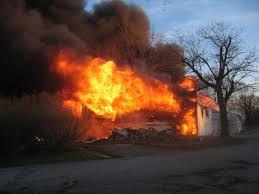fire: (57, 56, 215, 134)
